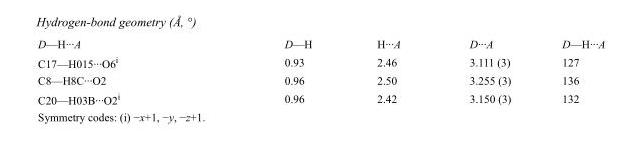table: (37, 37, 604, 106)
table column: (37, 37, 201, 106), (201, 37, 343, 106), (434, 37, 535, 106), (343, 37, 434, 106), (535, 37, 604, 106)
table row: (37, 51, 604, 71), (37, 88, 604, 106), (37, 71, 604, 88), (37, 37, 604, 51)
